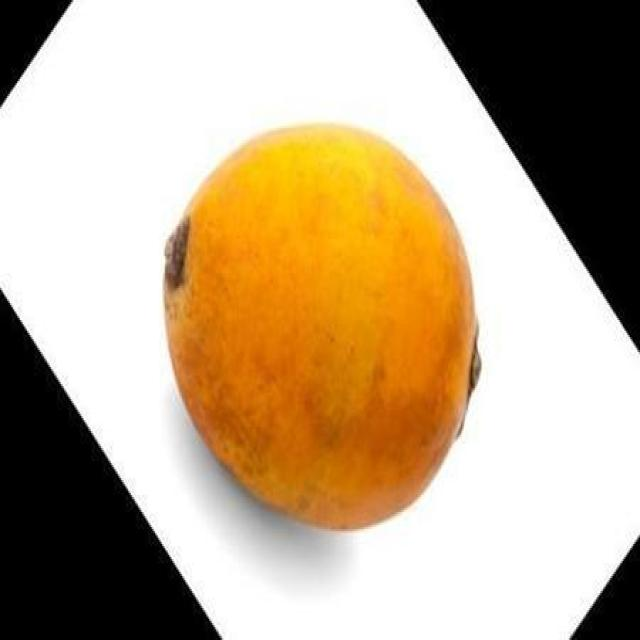good: (161, 122, 481, 533)
